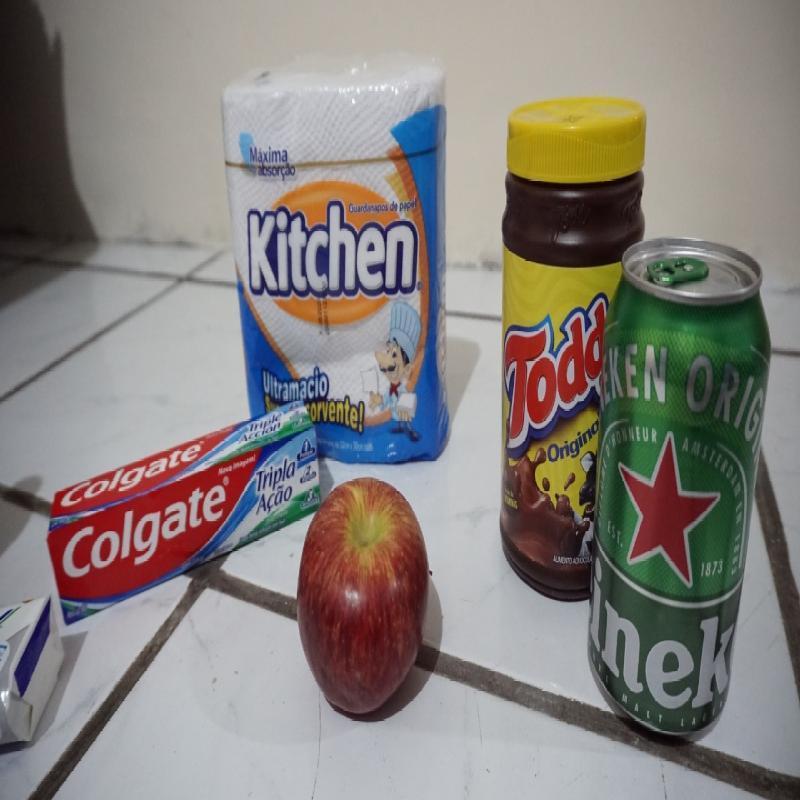Apple: (295, 477, 430, 715)
Beer can: (587, 237, 775, 742)
Chocolate Powder: (499, 95, 646, 612)
Napkin: (222, 54, 452, 464)
Soap: (0, 596, 64, 760)
Toothpaste: (48, 399, 320, 634)
